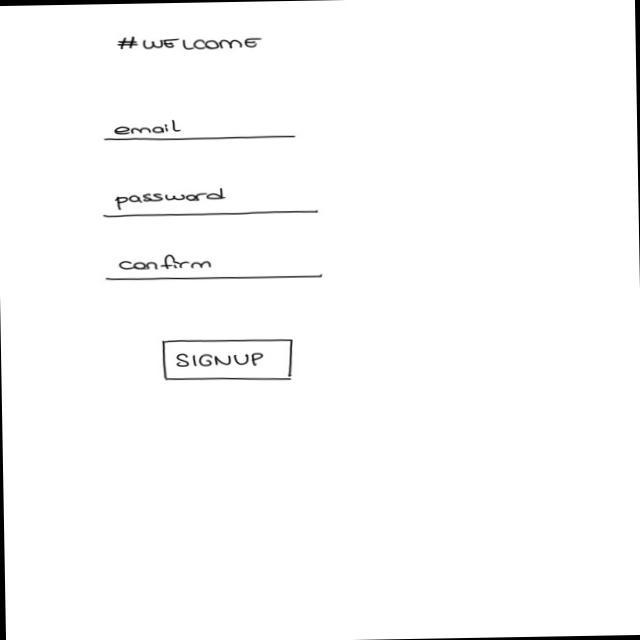button: (162, 337, 297, 384)
input: (101, 183, 321, 220), (104, 249, 324, 284), (102, 117, 299, 143)
label: (114, 32, 264, 54)
